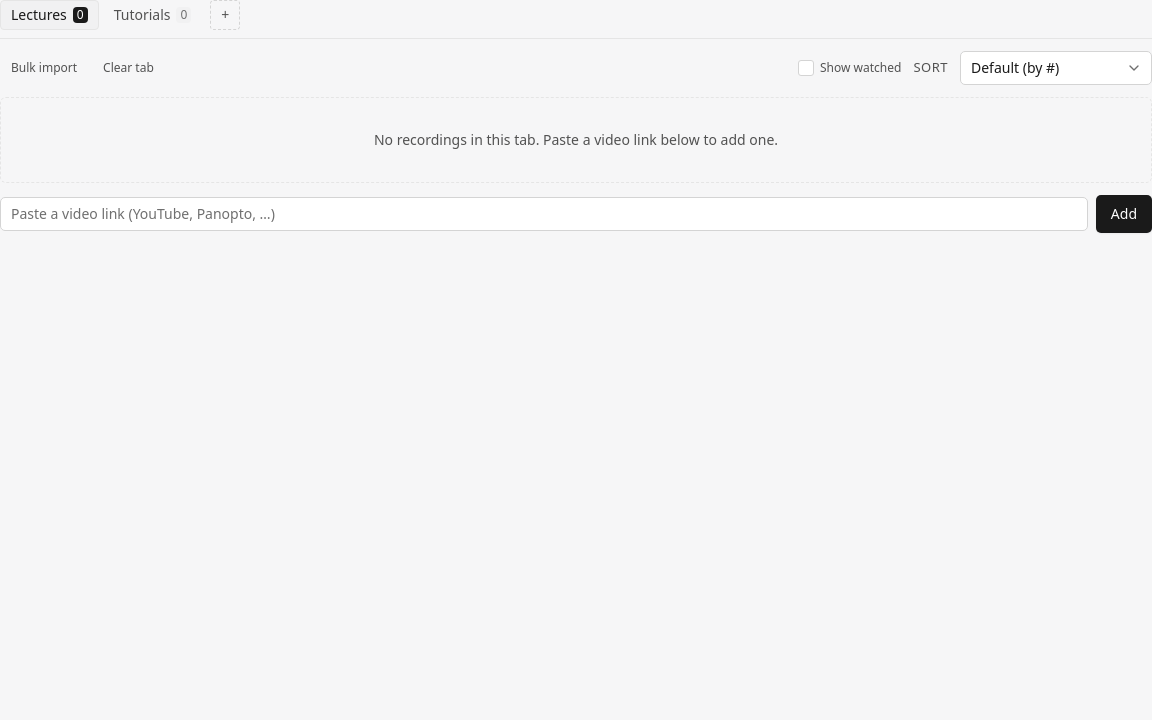
Test case: RecordingsTab › adds a custom tab through the prompt
Click the button named "add tab". click: click(225, 15)
box: [210,0,240,30]
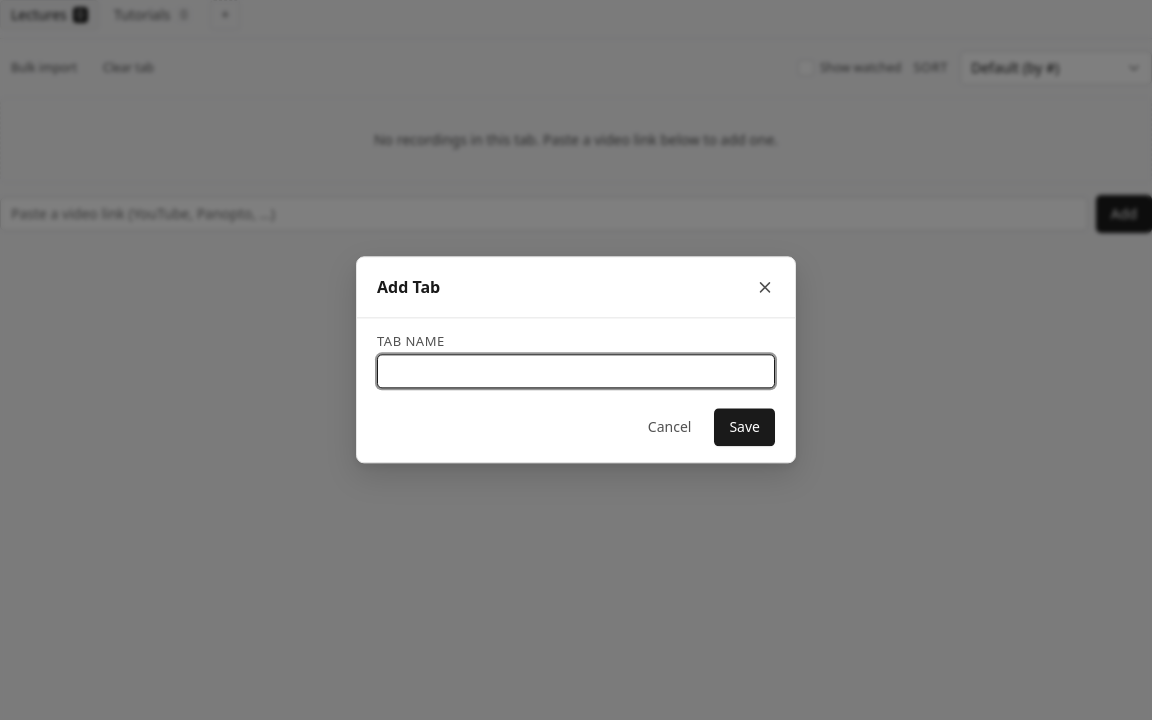
Type "Labs" into the field labelled "Tab name". click: (576, 372)
box: [377,355,775,389]
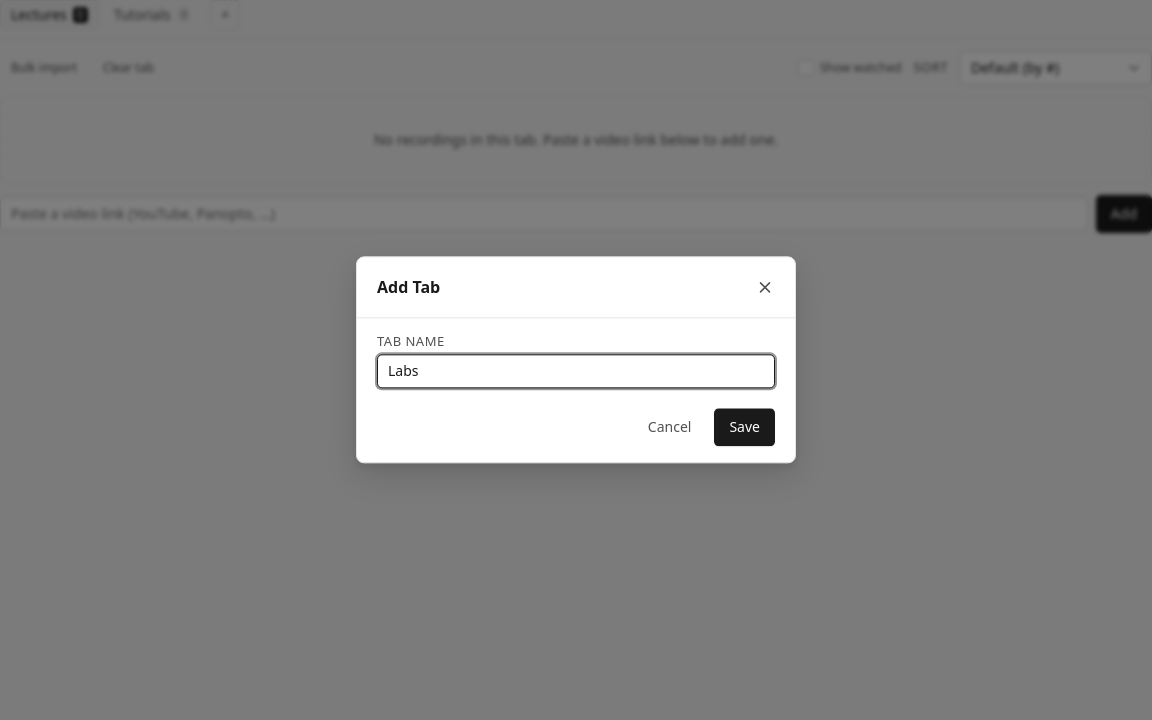
Click the button "Save". click: click(745, 428)
box: [714,409,775,447]
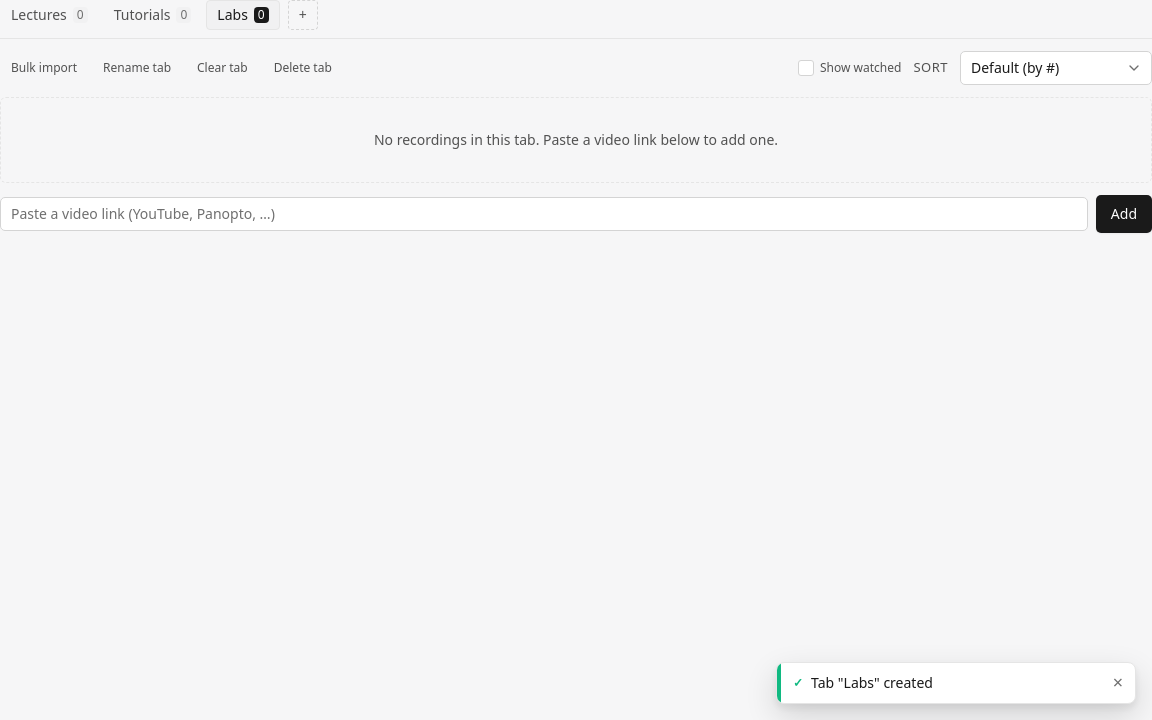
Check: the button "Labs 0" is shown, box [206,0,280,30]
Check: the text "Labs" is shown, box [217,5,248,25]
